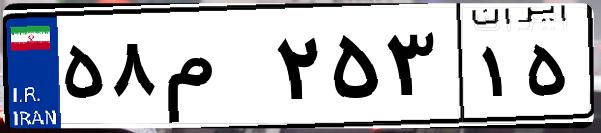1: (475, 38, 525, 113)
2: (270, 28, 330, 110)
3: (385, 28, 445, 110)
5: (330, 28, 385, 110), (57, 26, 110, 100), (525, 38, 570, 115)
8: (110, 28, 158, 98)
م: (158, 20, 270, 120)
